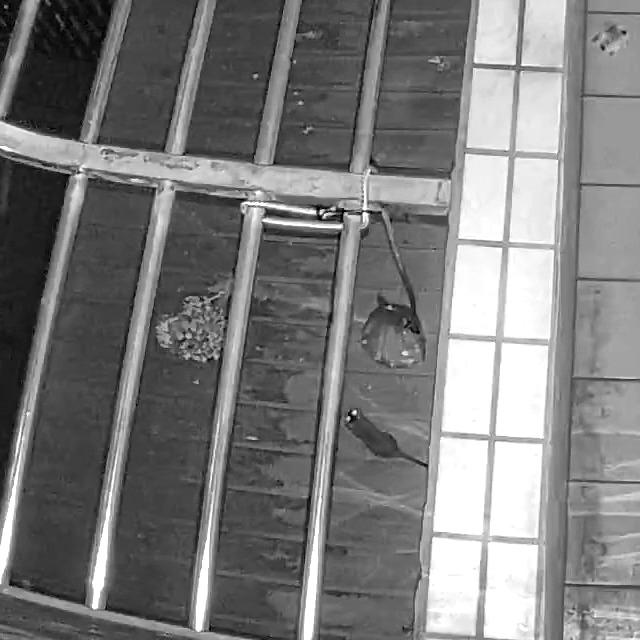rat: (342, 404, 429, 470)
